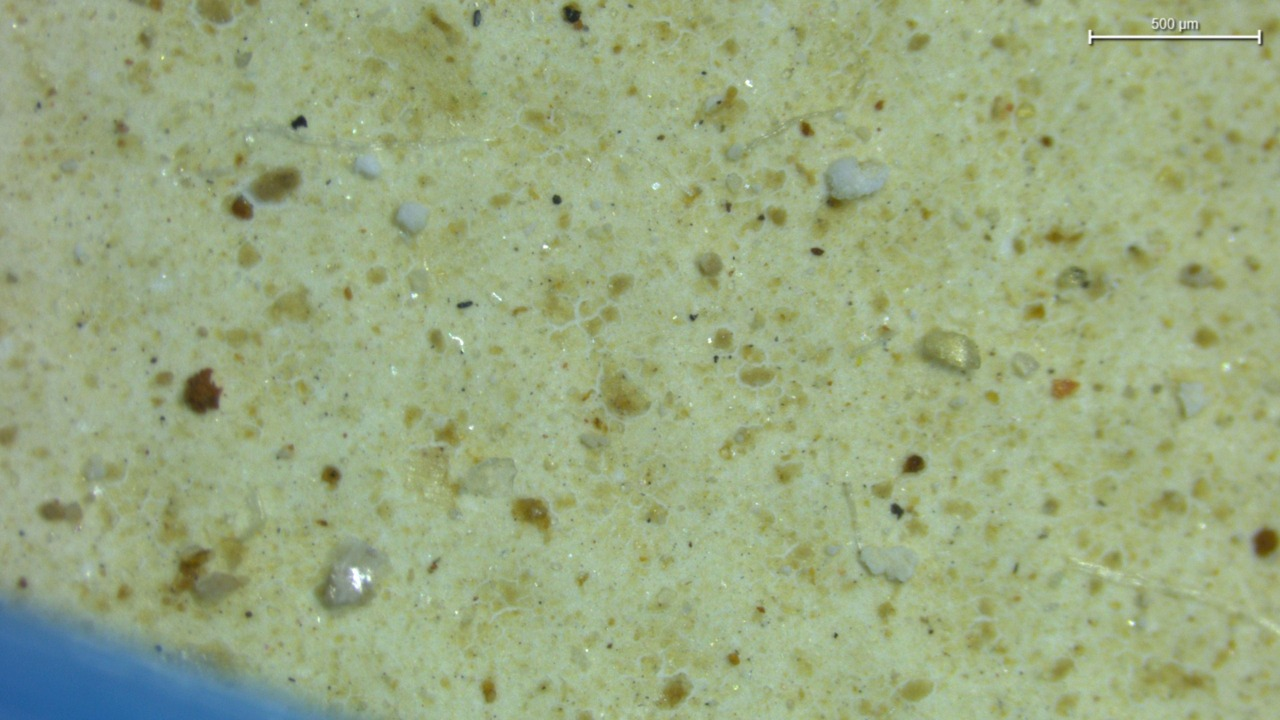microplastic_fragment: (322, 543, 389, 608), (824, 157, 888, 200), (922, 329, 981, 372), (860, 547, 918, 582), (395, 202, 428, 234), (354, 154, 381, 178)
